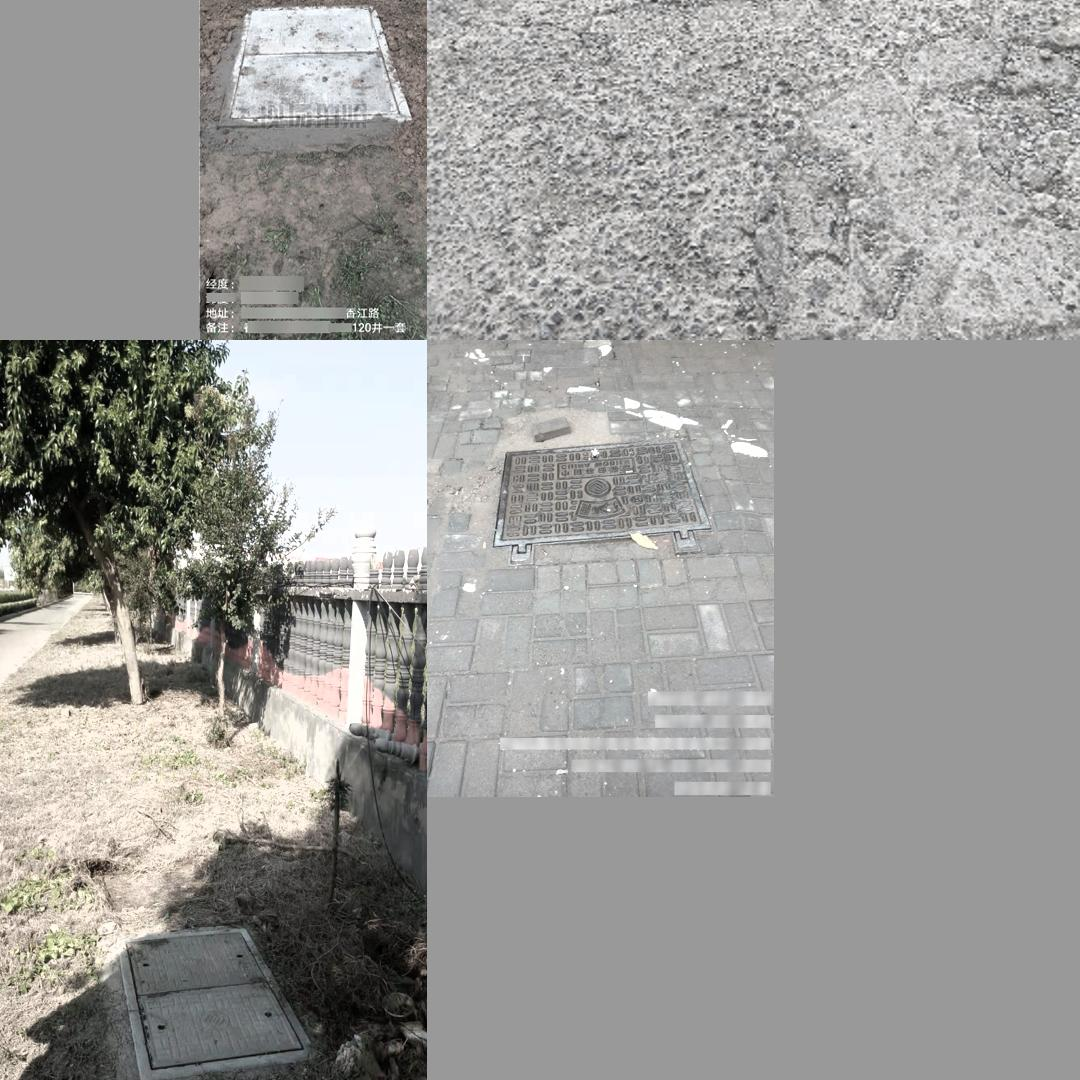good: (115, 927, 311, 1080), (492, 437, 711, 566), (243, 0, 399, 118)
